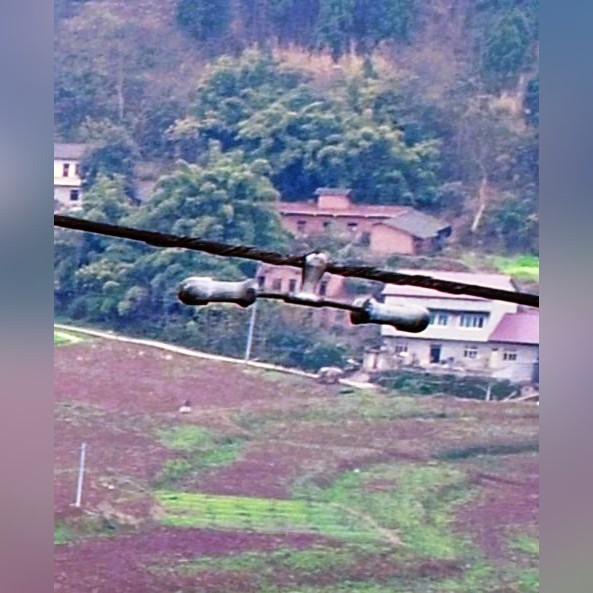Shockproof hammer: (174, 236, 439, 343)
